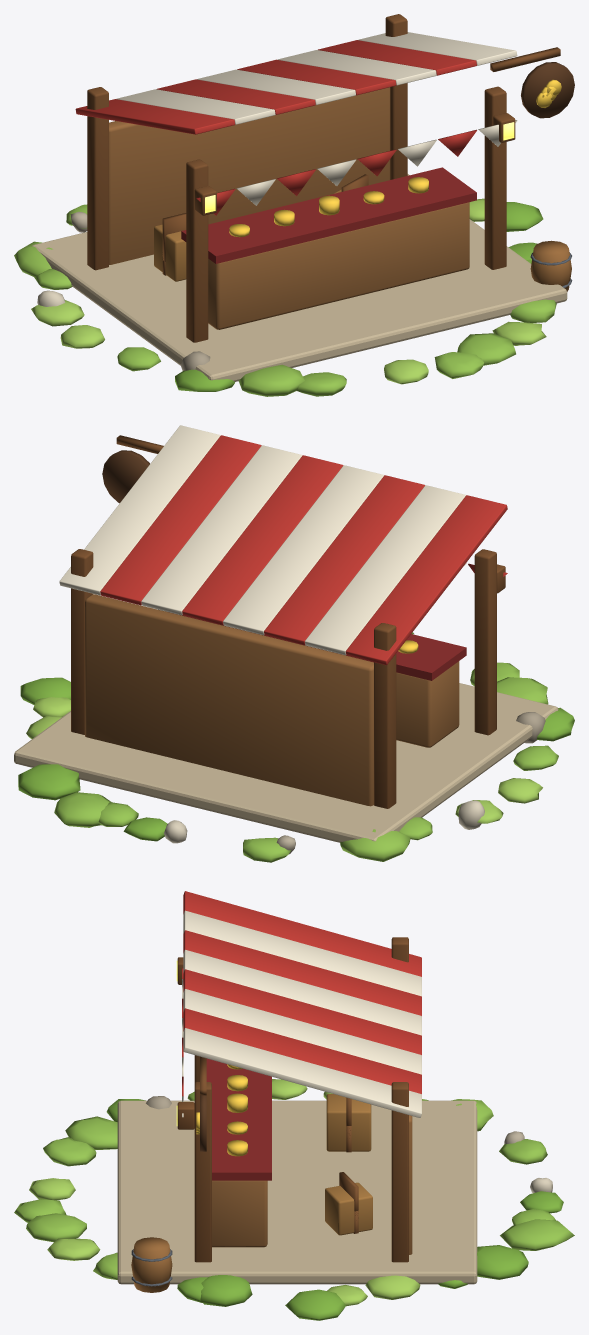
The model's file is b_shop.glb.
3 renders of one model, top to bottom at view 1: azimuth 30°, elevation 25°; view 2: azimuth 150°, elevation 25°; view 3: azimuth 270°, elevation 25°, orthographic. The views are drawn at different scales.
Visible parts, largest first — view 1: root_matte#9a6a3c, floor, root_matte#7a4e2a, root_matte#c23a32, root_matte#f3ead4, counterCloth, root_matte#94c252, root_matte#a8d060, root_matte#7fb243, sign, root_gold#ffd34a, barrel (+1 smaller); view 2: root_matte#9a6a3c, root_matte#c23a32, root_matte#f3ead4, floor, root_matte#7a4e2a, root_matte#94c252, root_matte#7fb243, root_matte#a8d060, counterCloth, sign, root_matte#d6ccb6; view 3: floor, root_matte#f3ead4, root_matte#c23a32, root_matte#94c252, root_matte#7a4e2a, root_matte#7fb243, counterCloth, root_matte#9a6a3c, root_matte#a8783e, root_matte#a8d060, barrel, root_gold#ffd34a.
Part boxes in pixels (box(x1,y1,x2,y2)): root_matte#9a6a3c: box(109, 87, 469, 329); floor: box(31, 174, 567, 381); root_matte#7a4e2a: box(87, 14, 560, 342); root_matte#c23a32: box(75, 40, 476, 215); root_matte#f3ead4: box(116, 32, 517, 205); counterCloth: box(181, 167, 476, 263); root_matte#94c252: box(14, 204, 556, 396); root_matte#a8d060: box(31, 198, 546, 384); root_matte#7fb243: box(175, 202, 543, 391); sign: box(521, 62, 574, 118); root_gold#ffd34a: box(229, 79, 561, 237); barrel: box(530, 240, 571, 291); root_matte#9a6a3c: box(85, 594, 459, 806); root_matte#c23a32: box(100, 435, 507, 665); root_matte#f3ead4: box(59, 425, 466, 655); floor: box(14, 683, 558, 842); root_matte#7a4e2a: box(71, 435, 505, 808); root_matte#94c252: box(54, 632, 558, 862); root_matte#7fb243: box(18, 677, 574, 841); root_matte#a8d060: box(26, 697, 542, 823); counterCloth: box(168, 612, 466, 680); sign: box(102, 450, 149, 503); root_matte#d6ccb6: box(164, 800, 484, 843); floor: box(117, 1100, 477, 1284); root_matte#f3ead4: box(182, 910, 421, 1117); root_matte#c23a32: box(182, 891, 421, 1096); root_matte#94c252: box(14, 1091, 574, 1279); root_matte#7a4e2a: box(177, 937, 408, 1262); root_matte#7fb243: box(106, 1099, 563, 1320); counterCloth: box(206, 1058, 271, 1180); root_matte#9a6a3c: box(212, 1115, 412, 1254); root_matte#a8783e: box(325, 1094, 372, 1235); root_matte#a8d060: box(29, 1079, 420, 1306); barrel: box(131, 1237, 172, 1292); root_gold#ffd34a: box(196, 1064, 247, 1156).
Size of the model in its own units: 3.31 by 1.54 by 3.27.
